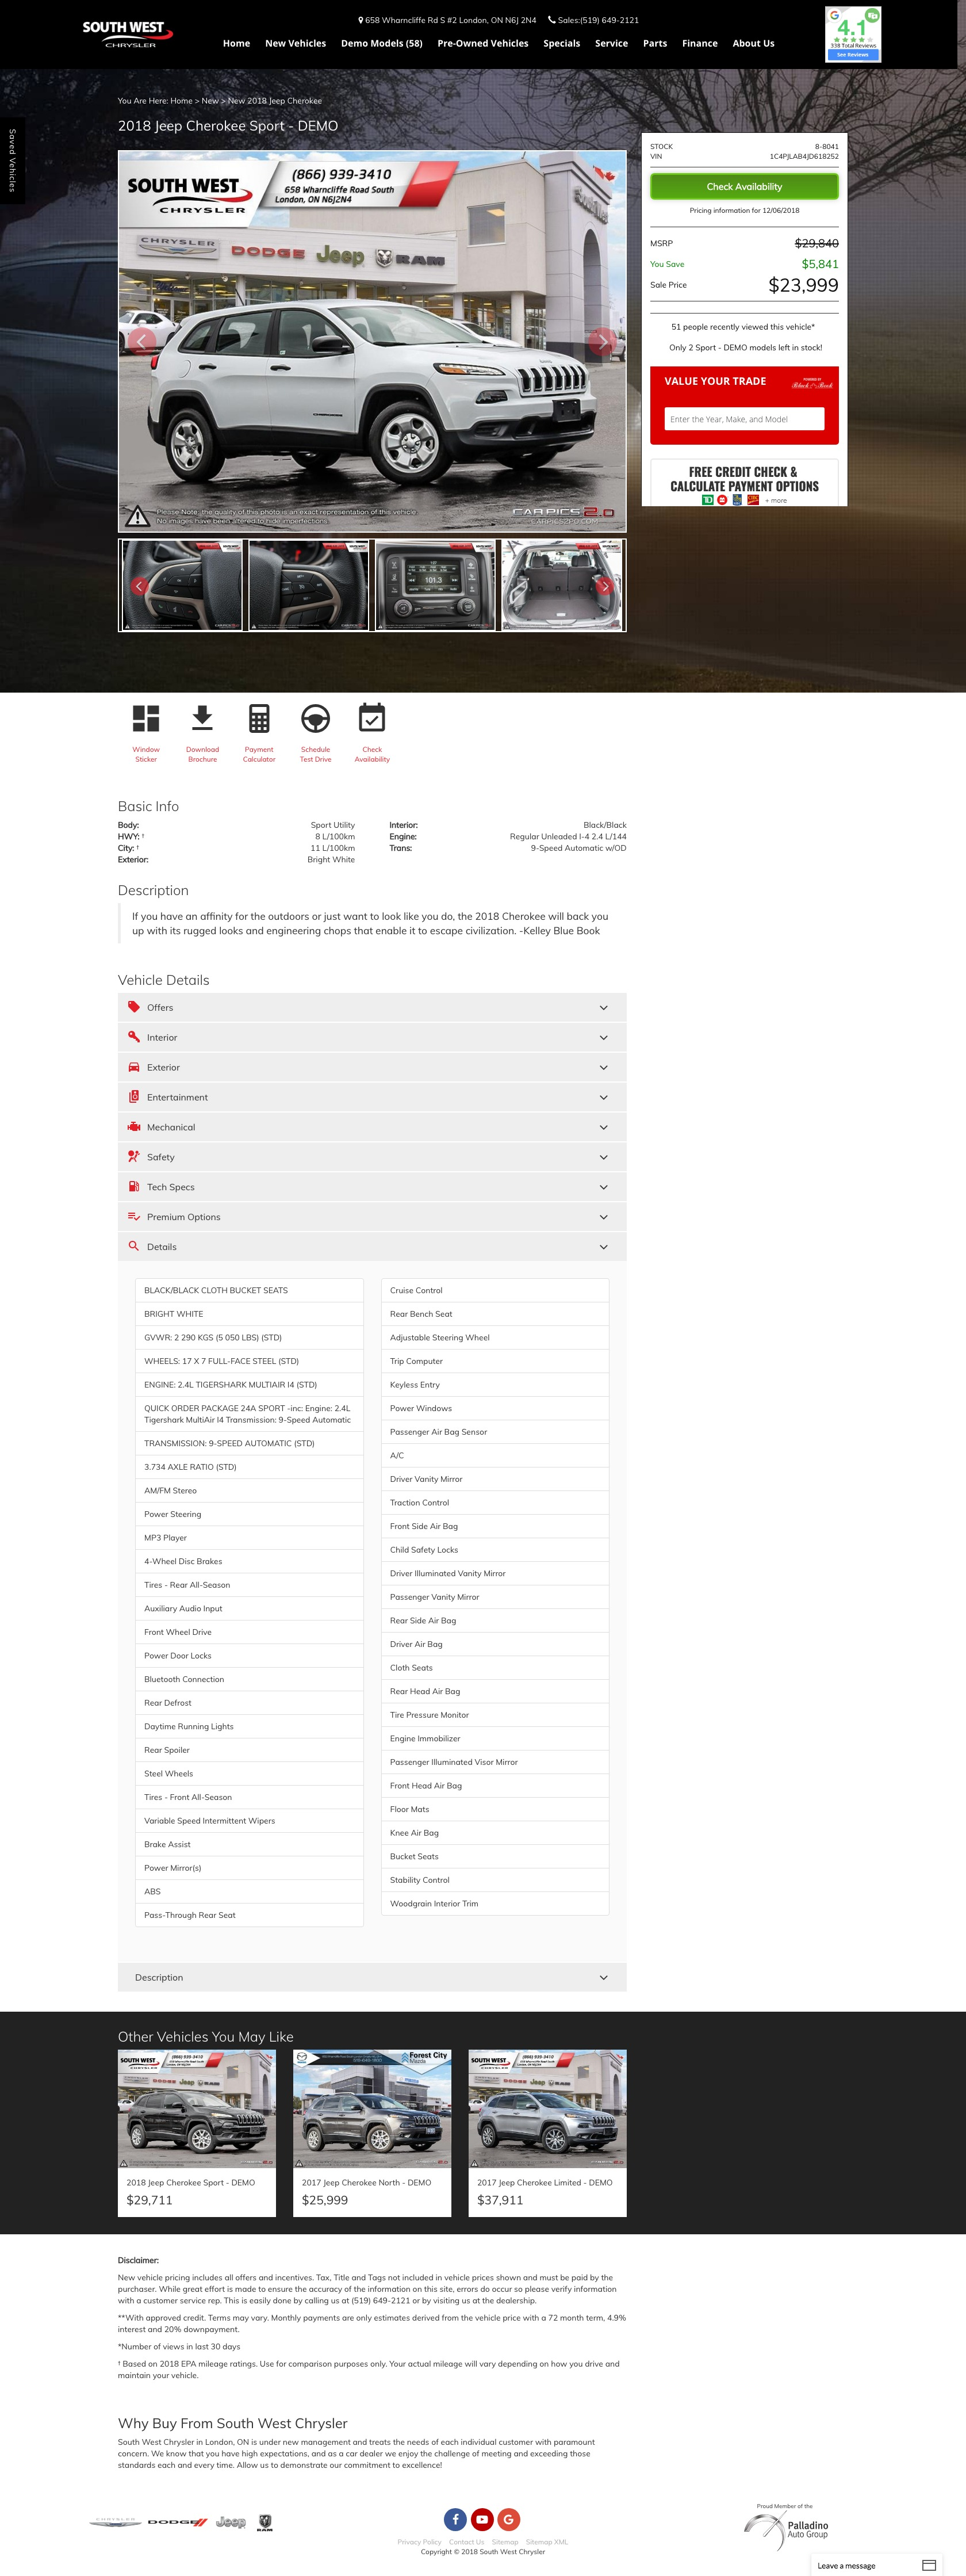car: (596, 577, 614, 596)
